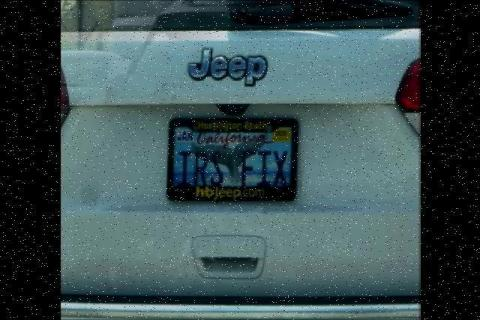LicensePlate: (167, 118, 300, 200)
